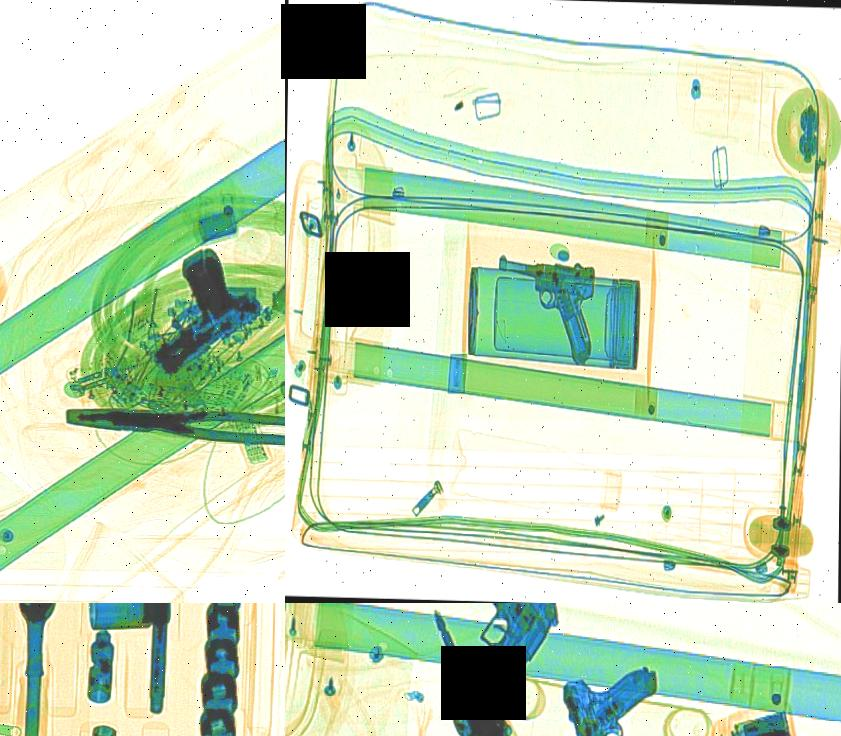Gun: (368, 603, 600, 736), (99, 241, 273, 378), (486, 251, 602, 366), (552, 661, 689, 736)
Pliers: (61, 398, 285, 447)
